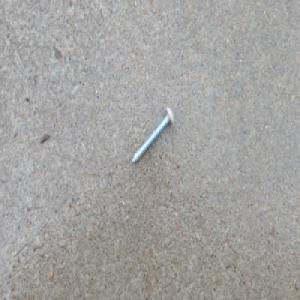Nail: (129, 107, 173, 167)
